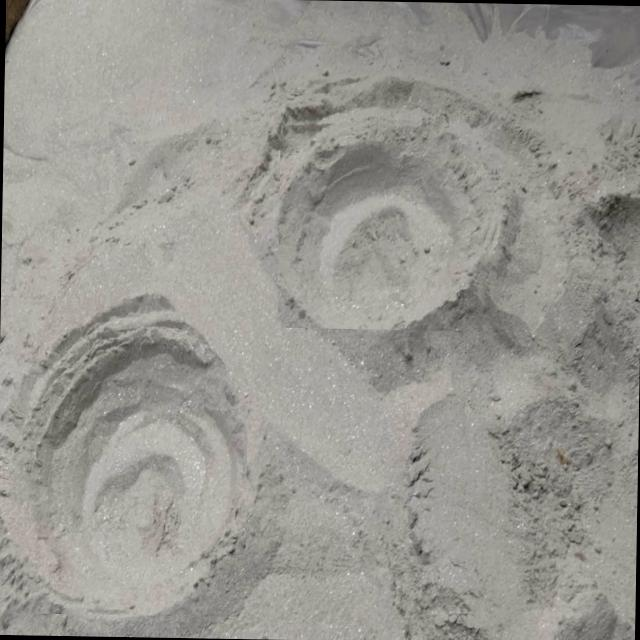C20: (13, 300, 247, 615), (278, 118, 494, 329)
